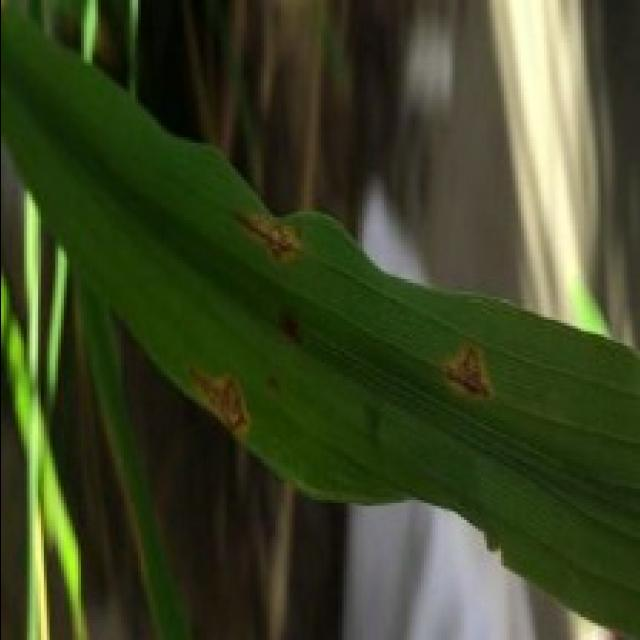Unhealthy: (185, 363, 249, 431), (225, 209, 303, 264), (439, 341, 491, 398), (275, 307, 302, 350), (264, 372, 280, 389)
